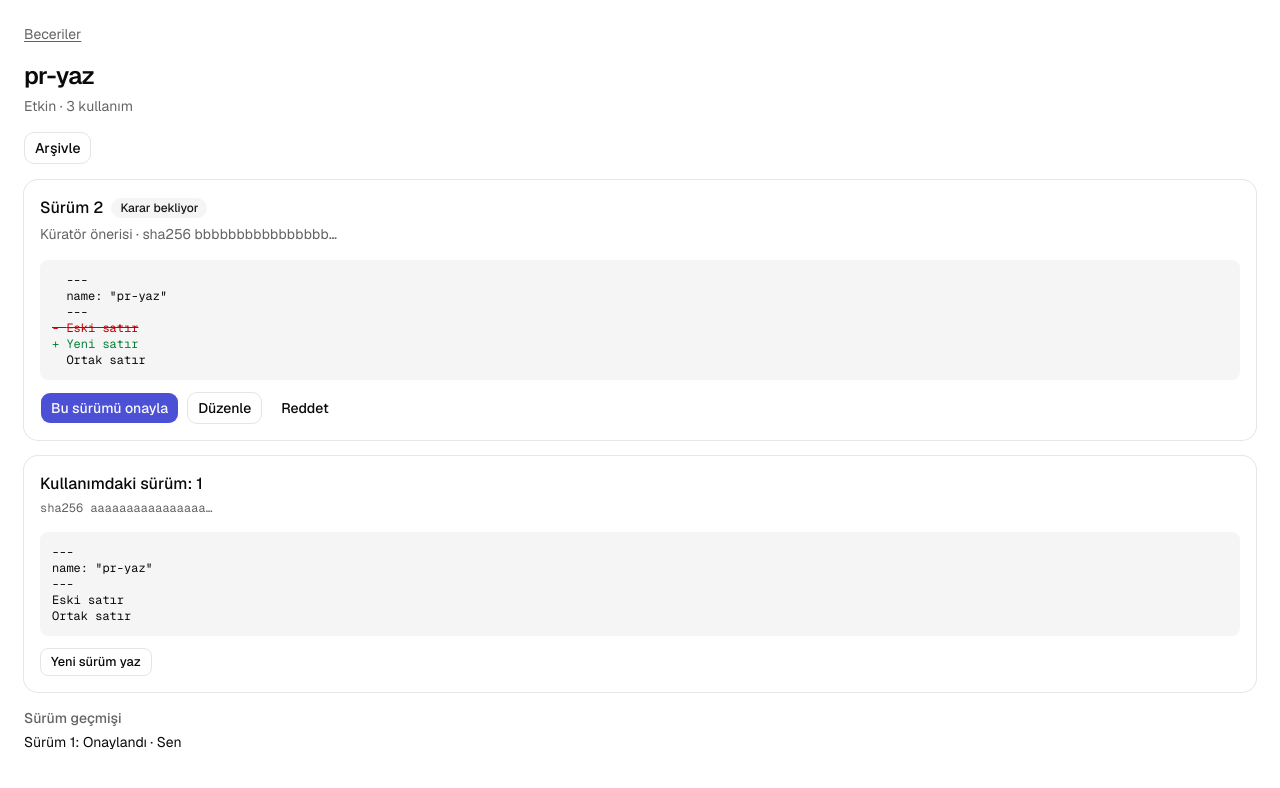
SkillDetailView › shows the diff and approves the pending version by its hash
Expected: the element with test id "skill-diff" shows "- Eski satır", left=40, top=260, right=1240, bottom=380
Expected: the element with test id "skill-diff" shows "+ Yeni satır", left=40, top=260, right=1240, bottom=380
What coordinates should you click on to do the following:
click the button "Bu sürümü onayla"
I would click on:
 (110, 408)
Its box is left=40, top=392, right=179, bottom=424.
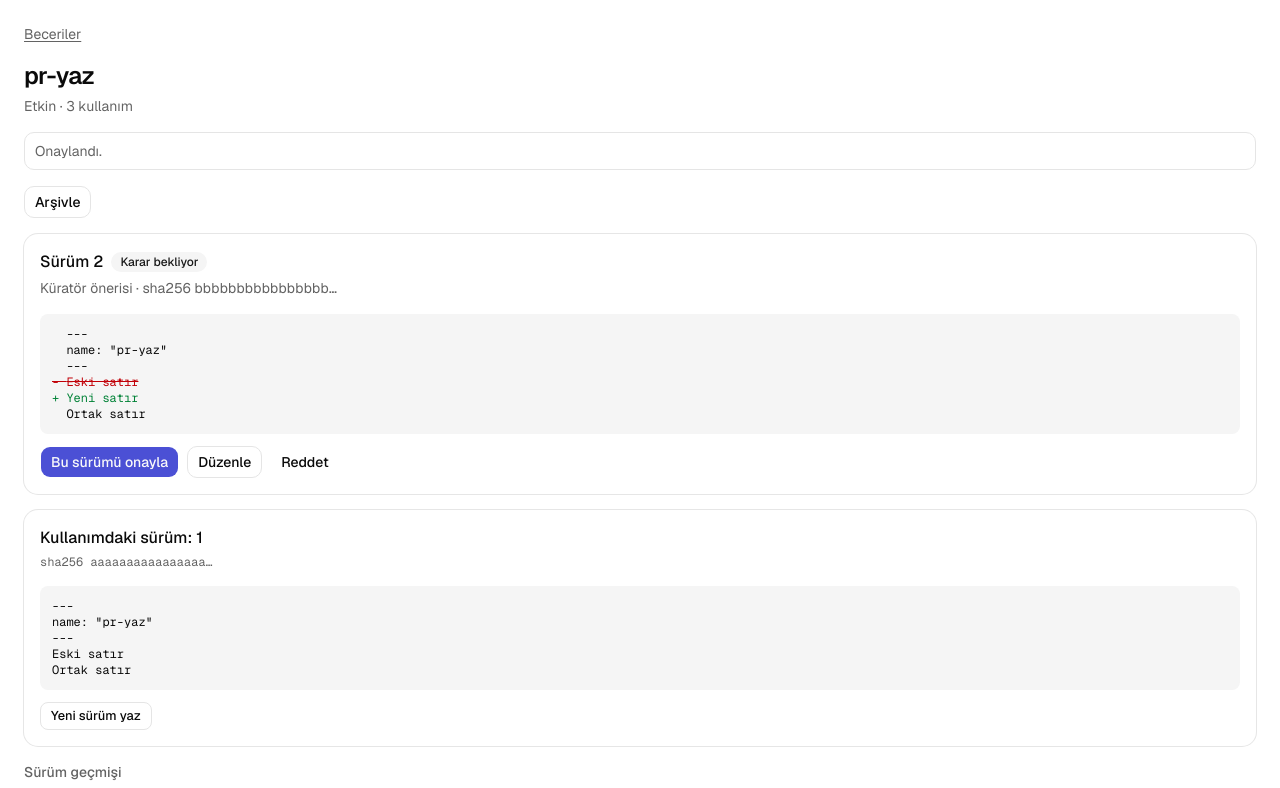
Expected: the text "Onaylandı." is shown, left=35, top=142, right=102, bottom=160
